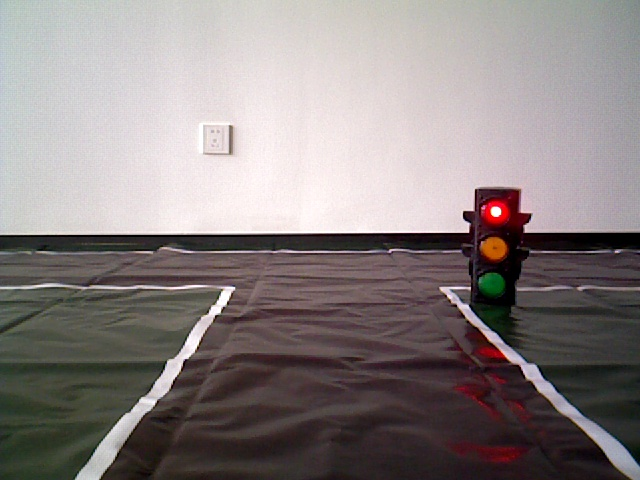red: (473, 189, 517, 297)
